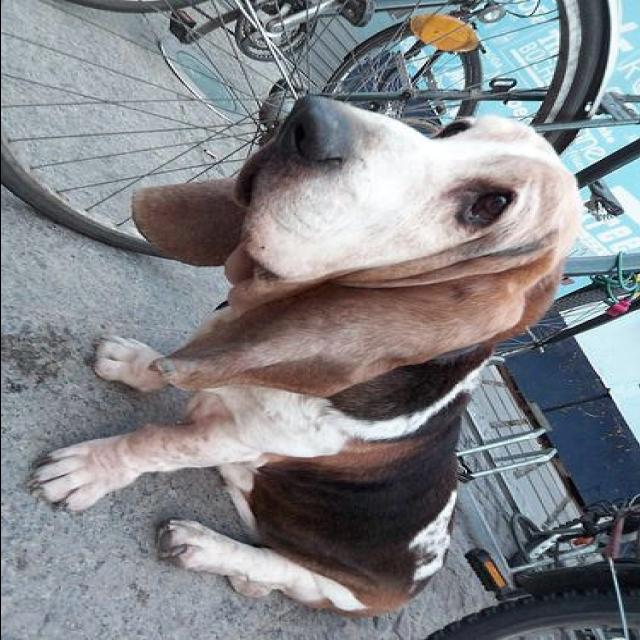basset: (25, 92, 588, 614)
